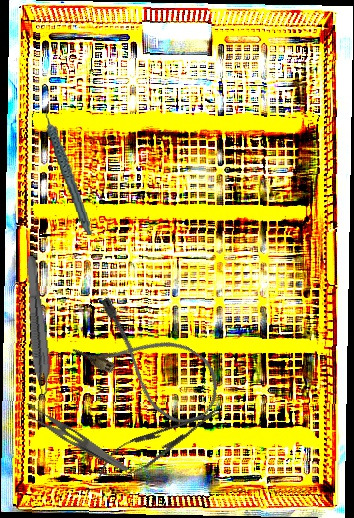Cannula: (69, 293, 232, 435)
Dressing Forceps: (18, 400, 136, 474)
Handpiece: (44, 100, 93, 239)
Needle Holder: (90, 396, 229, 490)
Tissue Forceps: (17, 255, 55, 401)
